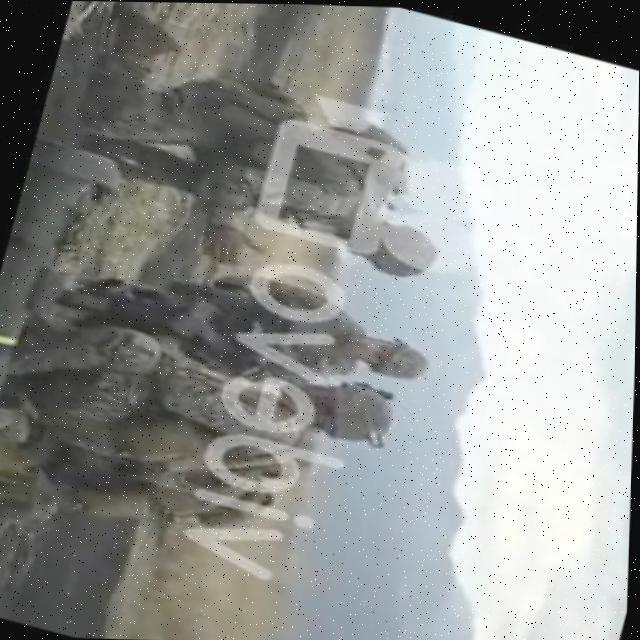rocket: (0, 141, 119, 438)
